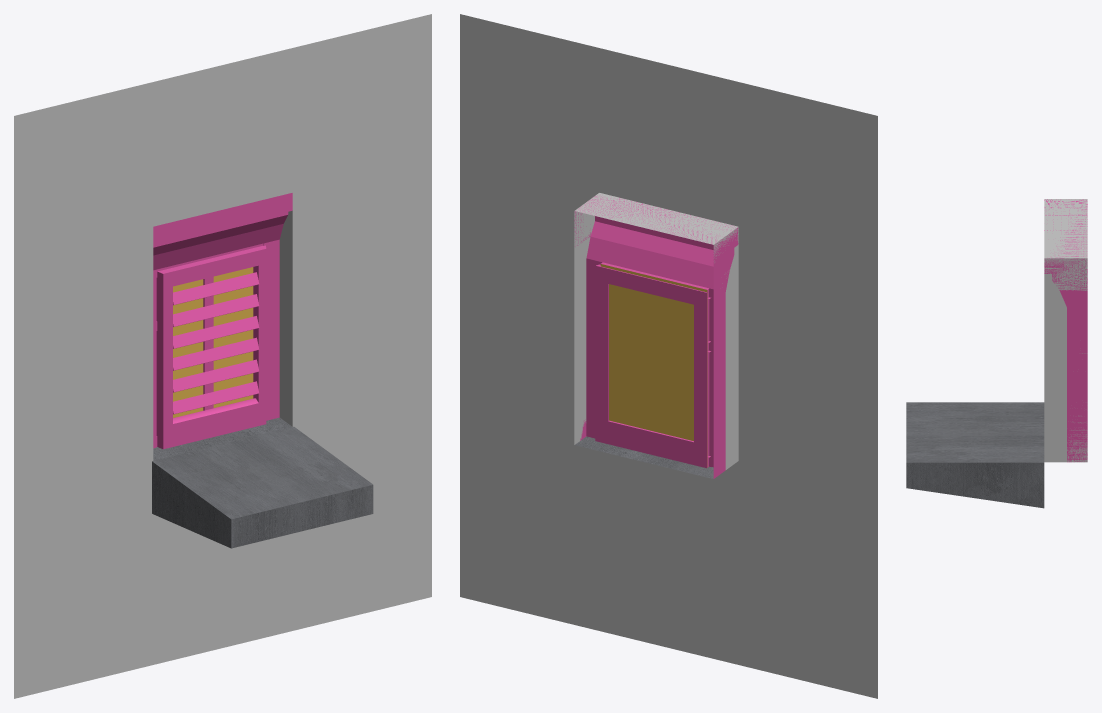
The model's file is SM_Window_Single_Center.fbx.
The picture shows the model from 3 angles, left to right: view 1: azimuth 30°, elevation 25°; view 2: azimuth 150°, elevation 25°; view 3: azimuth 270°, elevation 25°; orthographic projection. The views are drawn at different scales.
Visible parts, largest first — view 1: SM_Window_Single_Center; view 2: SM_Window_Single_Center; view 3: SM_Window_Single_Center.
Part boxes in pixels (x1,y1,x2,y2): SM_Window_Single_Center: (14,14,431,698); SM_Window_Single_Center: (460,14,877,698); SM_Window_Single_Center: (906,199,1087,508).
Size of the model in its own units: 3 by 4 by 1.3.
